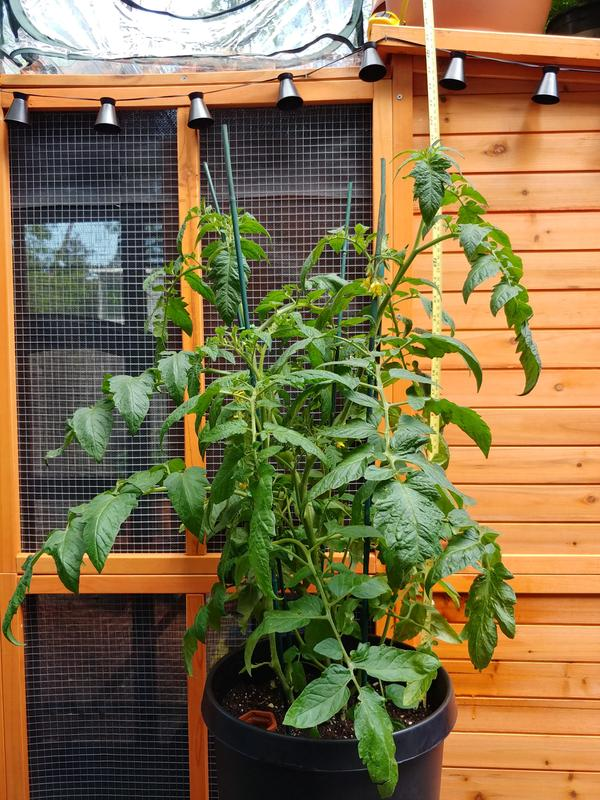tomato: (221, 361, 463, 665)
